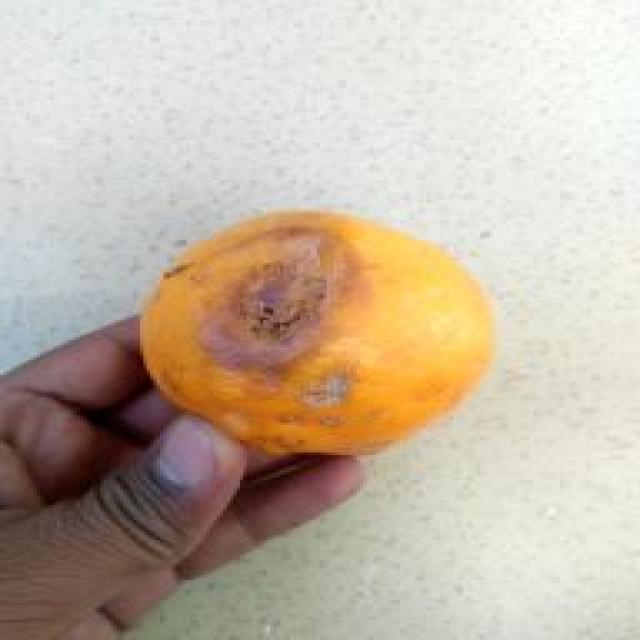Bad_Orange: (142, 212, 492, 453)
